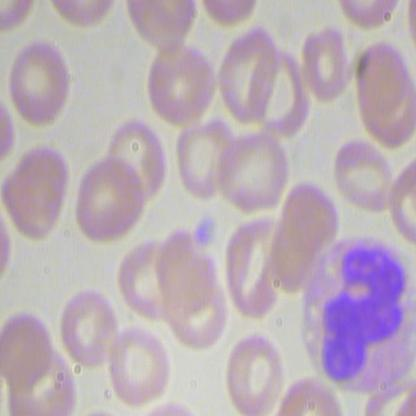Platelets: (192, 211, 222, 252)
RBC: (219, 217, 295, 319), (1, 144, 70, 254), (70, 152, 146, 248), (144, 35, 219, 131), (214, 127, 290, 217), (330, 128, 399, 218), (111, 326, 177, 415), (7, 37, 72, 127), (170, 117, 235, 201), (226, 326, 287, 415), (60, 284, 123, 368), (355, 36, 415, 115), (298, 25, 350, 107)
WBC: (295, 232, 415, 397)
